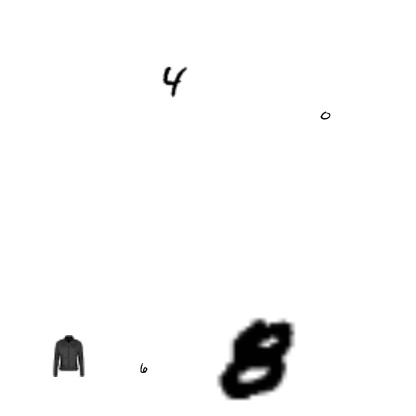0: (318, 109, 332, 123)
4: (151, 58, 193, 100)
6: (136, 362, 150, 376)
8: (198, 303, 310, 415)
Coat: (47, 335, 89, 377)
